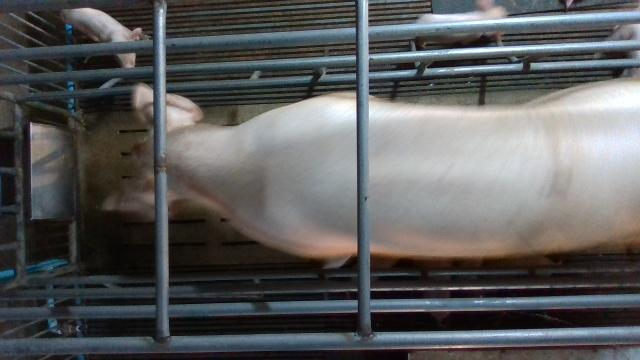piglet: (60, 8, 142, 68), (416, 0, 507, 48), (414, 261, 456, 328), (594, 23, 640, 78)
sow-stand: (101, 83, 640, 256)
